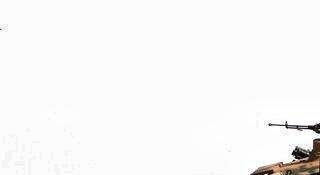tanks: (252, 135, 320, 175), (282, 124, 320, 136)
